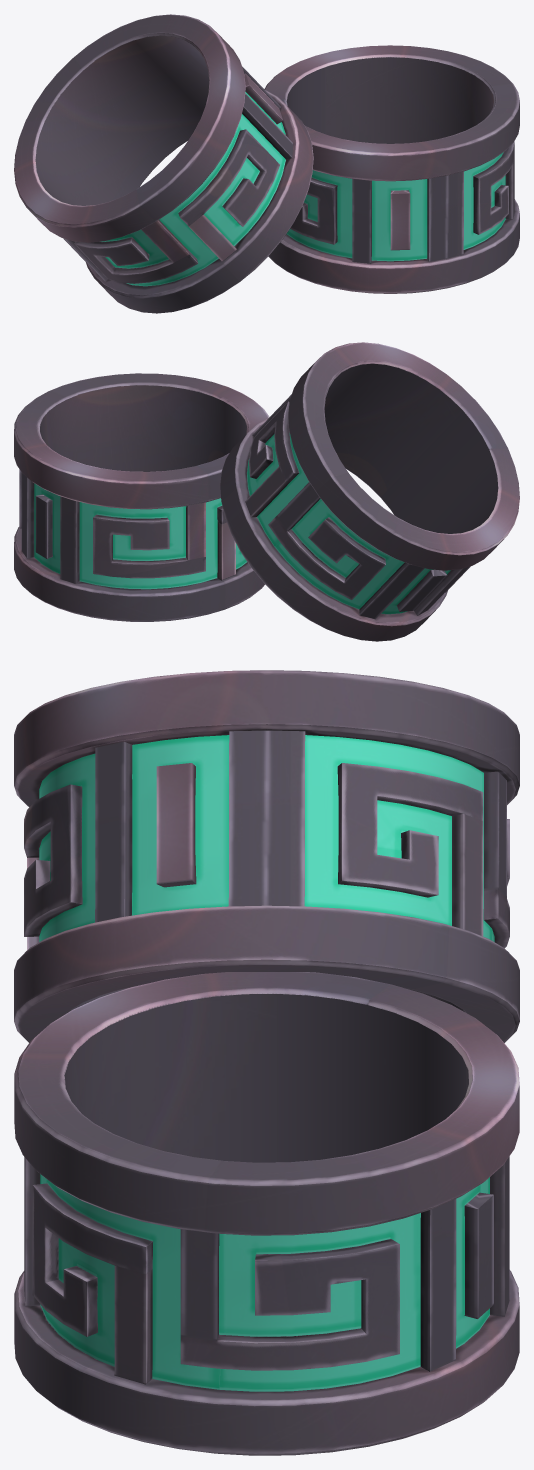
File: Ring.fbx
The picture shows the model from 3 angles, top to bottom: view 1: azimuth 30°, elevation 25°; view 2: azimuth 150°, elevation 25°; view 3: azimuth 270°, elevation 25°; orthographic projection. The views are drawn at different scales.
Parts seen in each view (by area): view 1: Ring_2, Ring_1M; view 2: Ring_2, Ring_1M; view 3: Ring_1M, Ring_2.
Part boxes in pixels (x1=…): Ring_2: x1=14, y1=14, x2=313, y2=313; Ring_1M: x1=264, y1=45, x2=519, y2=293; Ring_2: x1=220, y1=342, x2=519, y2=641; Ring_1M: x1=14, y1=373, x2=269, y2=621; Ring_1M: x1=14, y1=972, x2=519, y2=1455; Ring_2: x1=14, y1=670, x2=519, y2=1042.
Size of the model in its own units: 104 by 55.15 by 50.
1 material, 1 textured.
